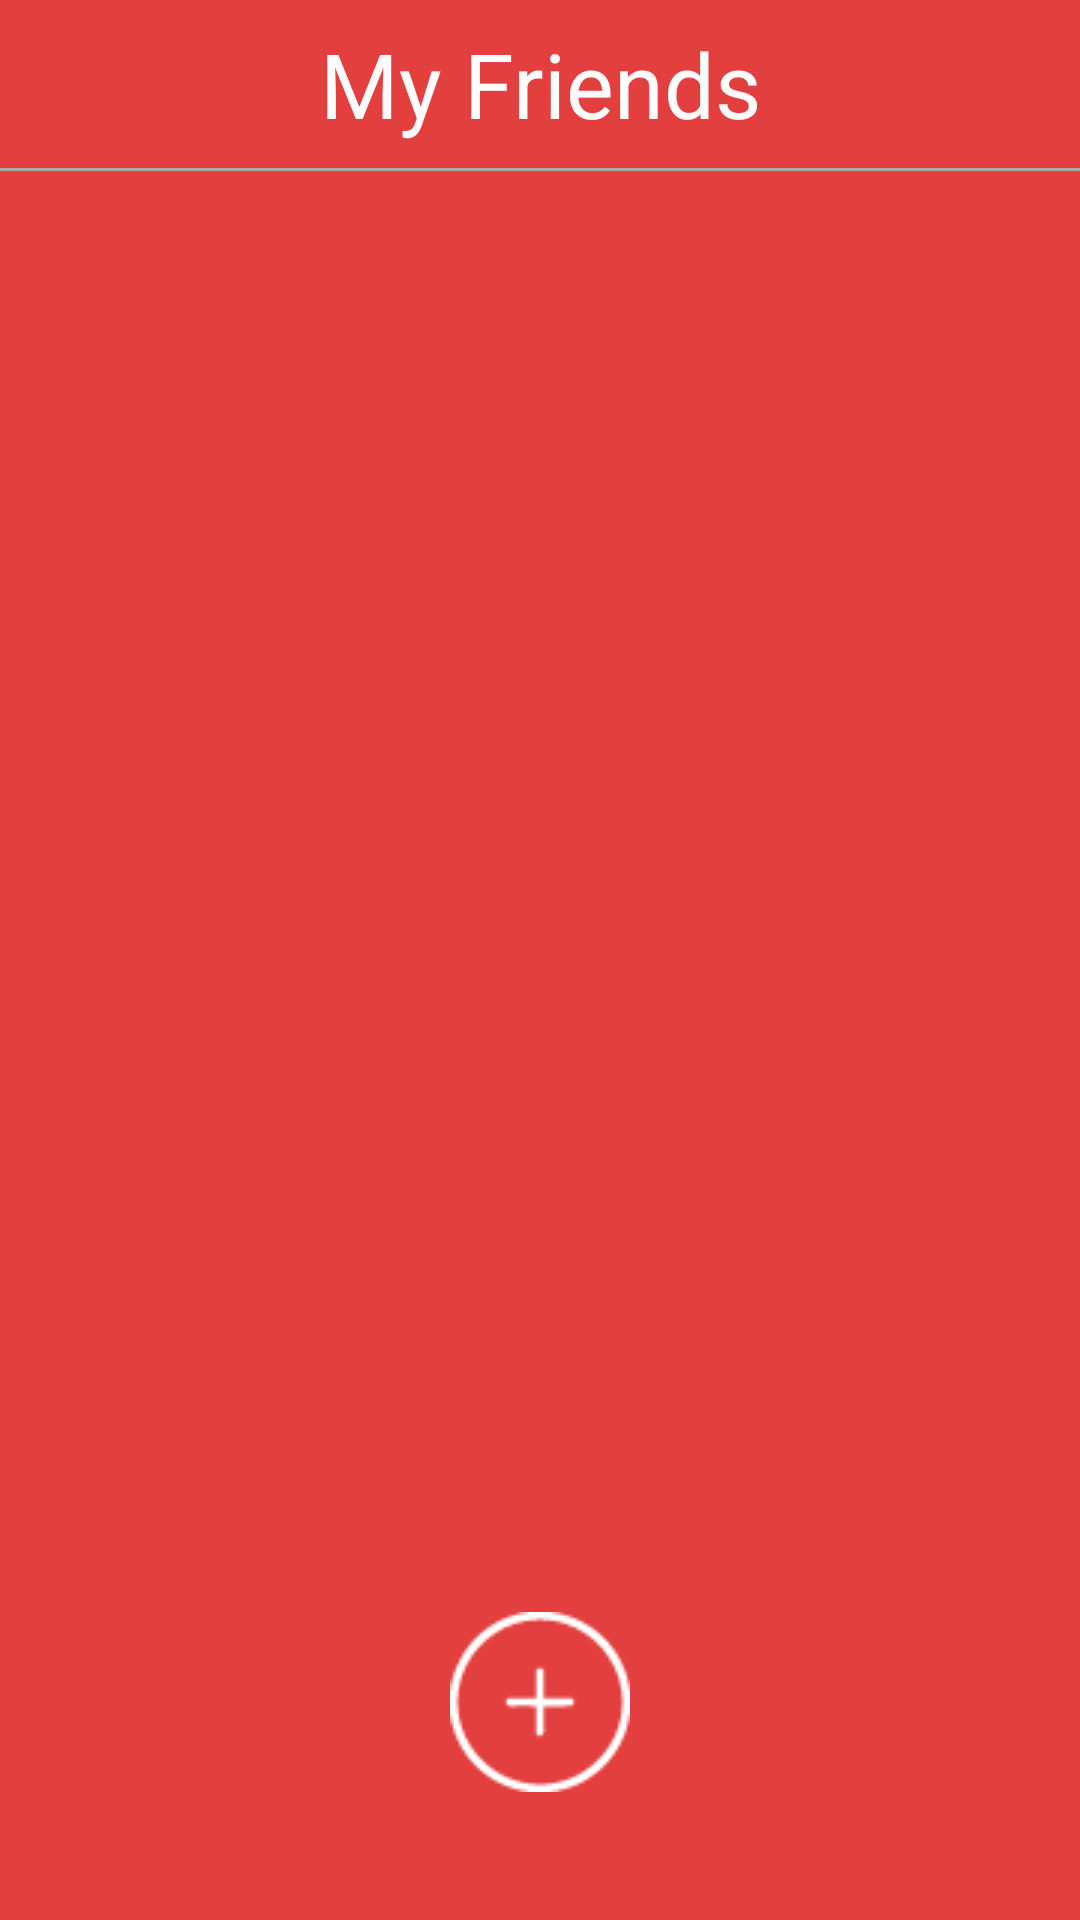

Where to tap for icons on this 1080x1920 app screen, as point (x, y):
add: point (540, 1702)
